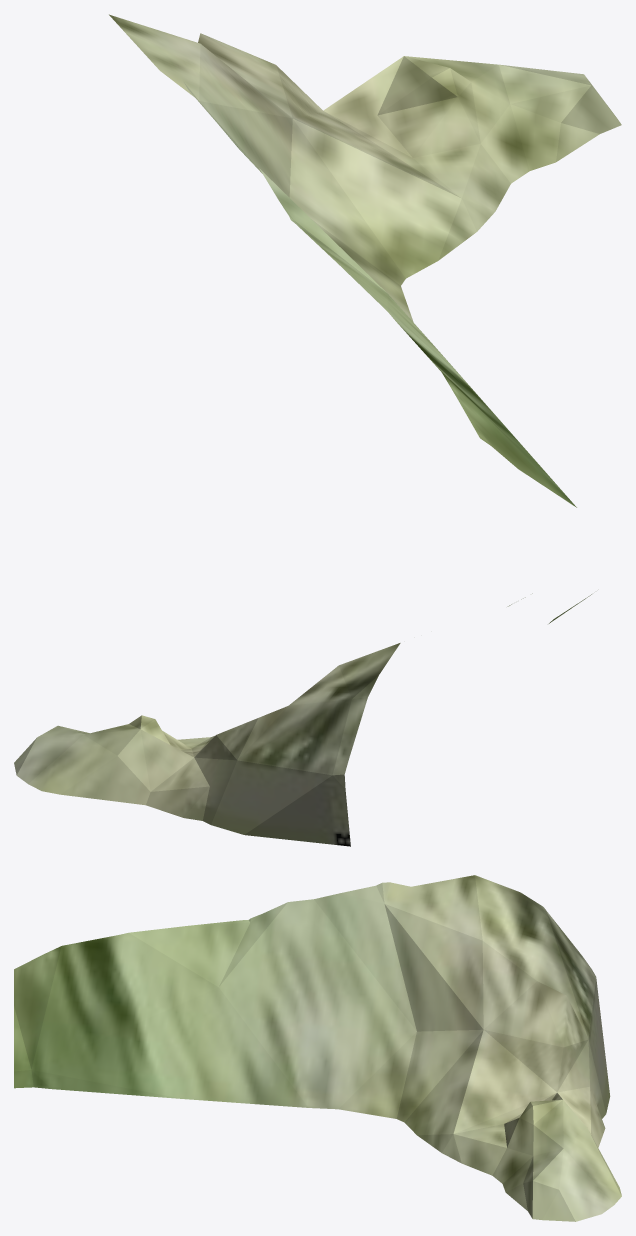
The picture shows the model from 3 angles, top to bottom: view 1: azimuth 30°, elevation 25°; view 2: azimuth 150°, elevation 25°; view 3: azimuth 270°, elevation 25°; orthographic projection. The views are drawn at different scales.
Size of the model in its own units: 2.18 by 1.03 by 3.26.
1 material, 1 textured.
